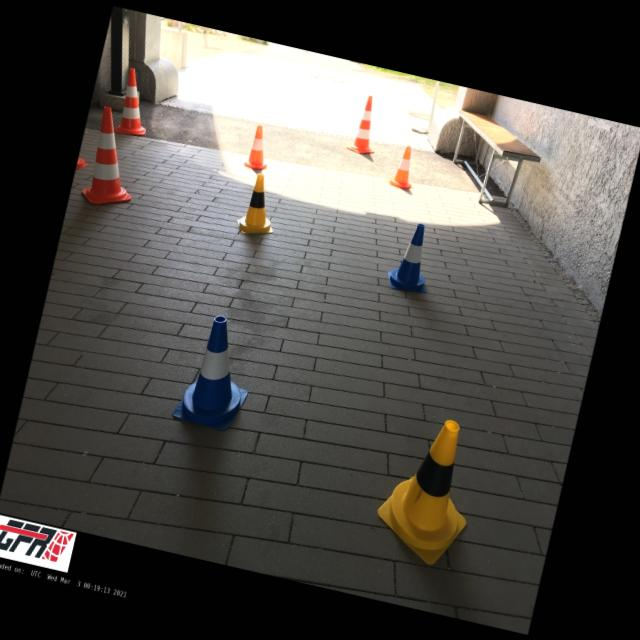blue_cone: (171, 310, 262, 432), (386, 220, 440, 296)
large_orange_cone: (80, 104, 150, 211), (115, 67, 158, 138), (346, 92, 386, 156)
orange_cone: (387, 142, 422, 190), (243, 124, 276, 172)
yellow_cone: (368, 408, 488, 570), (235, 170, 285, 239)
